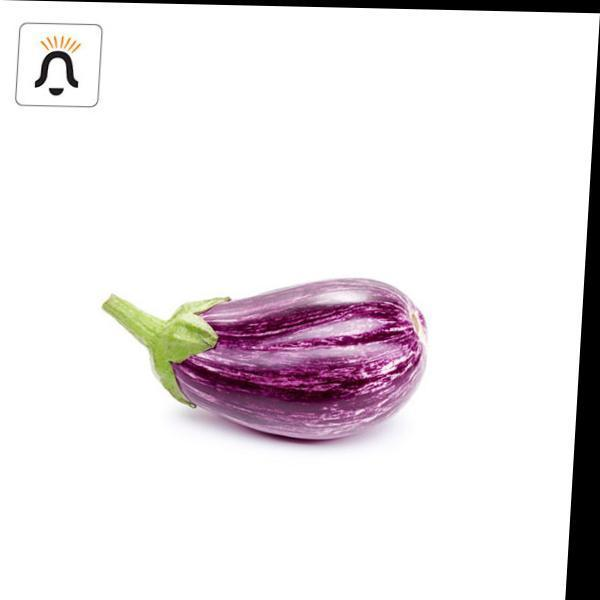eggplant: (56, 232, 454, 463)
